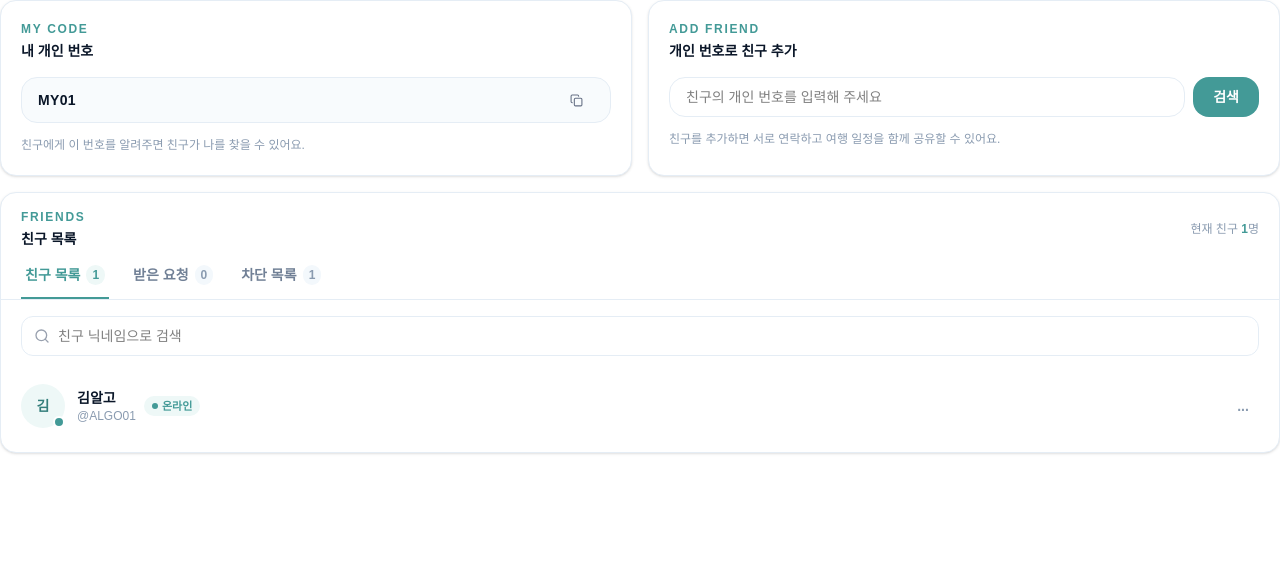
Test case: FriendManagement 컴포넌트 테스트 › 받은 요청 조회만 실패해도 친구와 차단 목록은 표시된다
Check: the text "김알고" is shown, box [77, 390, 116, 406]
Click the button "받은 요청 0": click(173, 282) [129, 265, 217, 299]
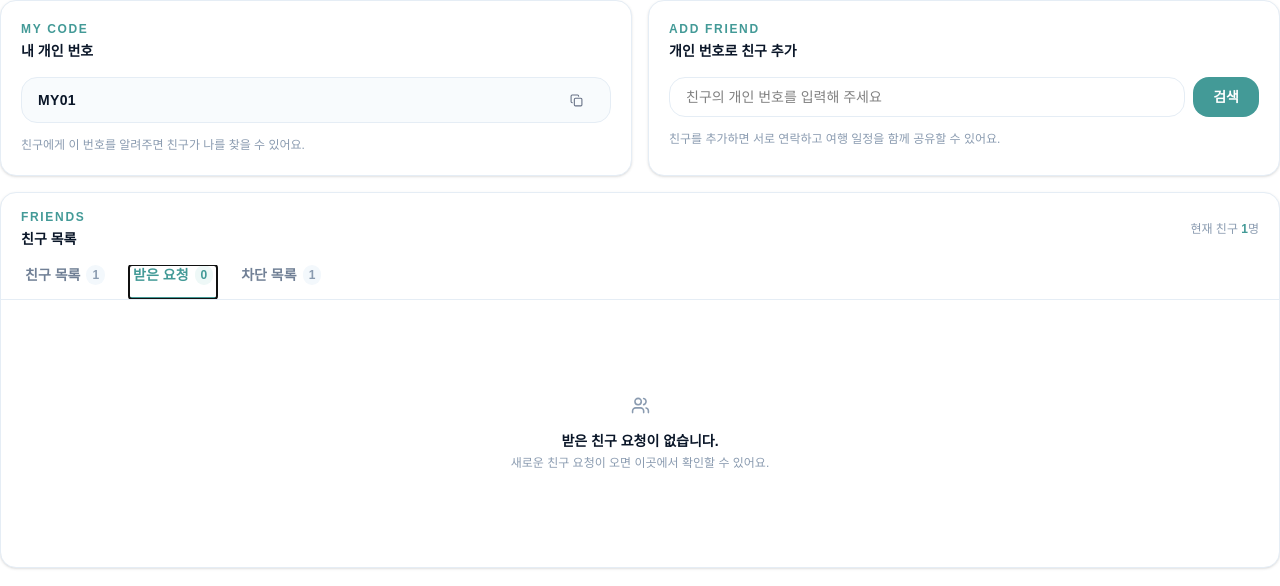
Check: the text "받은 친구 요청이 없습니다." is shown, box [561, 431, 719, 451]
Click the button "차단 목록 1": click(281, 282) [237, 265, 325, 299]
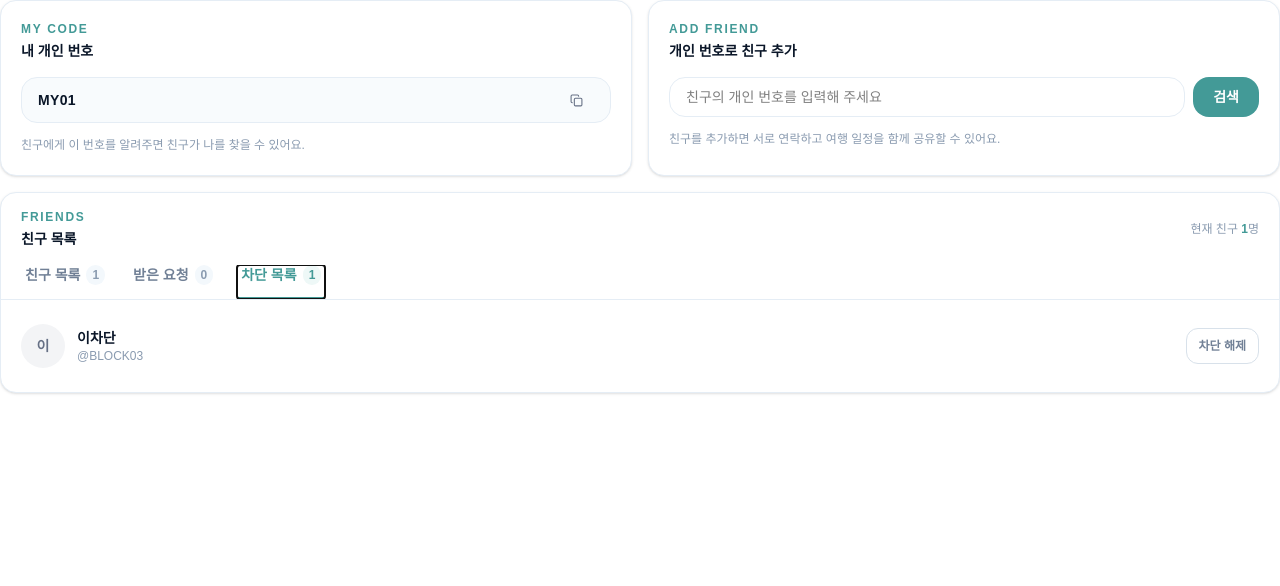
Check: the text "이차단" is shown, box [77, 330, 116, 346]
